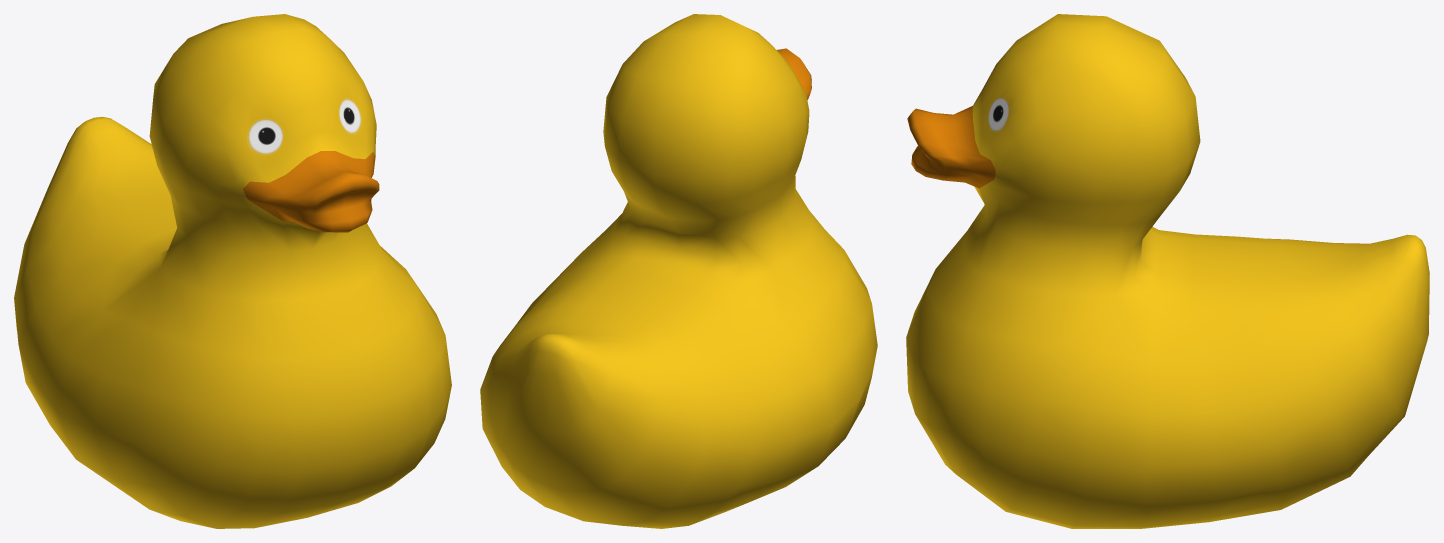
The model's file is duck.glb.
3 views of the same model, side by side, from view 1: azimuth 30°, elevation 25°; view 2: azimuth 150°, elevation 25°; view 3: azimuth 270°, elevation 25° (orthographic). The views are drawn at different scales.
Parts seen in each view (by area): view 1: Duck.001; view 2: Duck.001; view 3: Duck.001.
Part boxes in pixels (box(x1,y1,x2,y2)): Duck.001: box(14, 14, 451, 528); Duck.001: box(480, 14, 877, 528); Duck.001: box(906, 14, 1429, 528).
Size of the model in its own units: 0.2487 by 0.3326 by 0.3326.
Materials: 1 (1 with a texture image).
